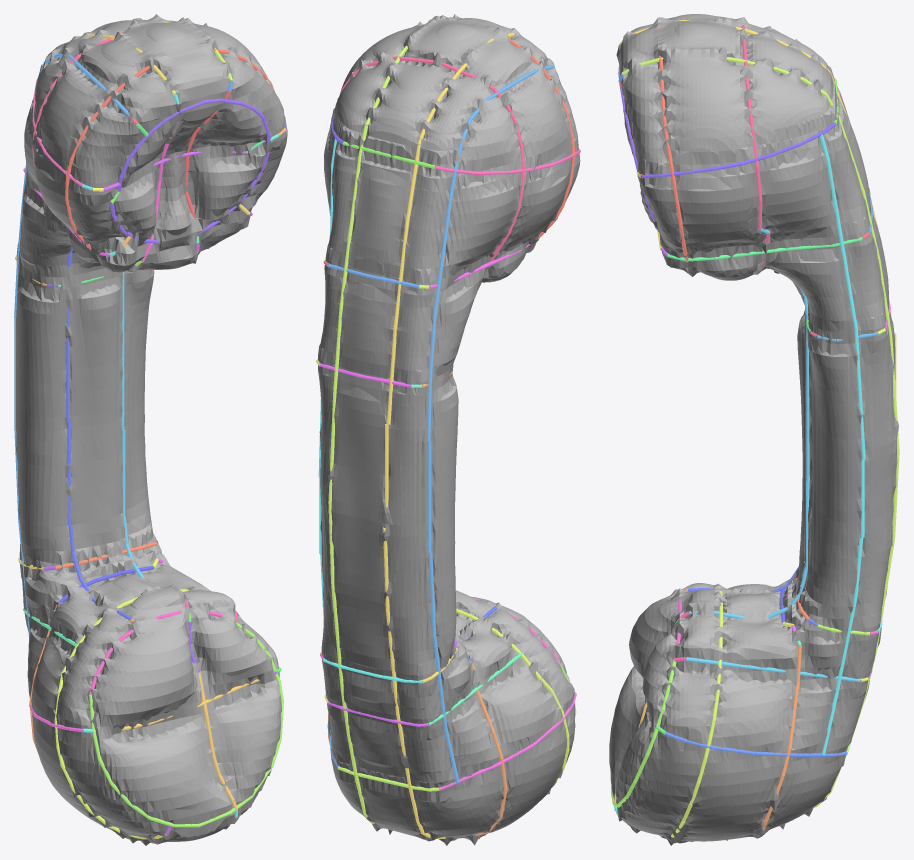
The model's file is flowrep_phone.gltf.
The picture shows the model from 3 angles, left to right: view 1: azimuth 30°, elevation 25°; view 2: azimuth 150°, elevation 25°; view 3: azimuth 270°, elevation 25°; orthographic projection.
Size of the model in its own units: 0.2705 by 0.933 by 0.3057.
